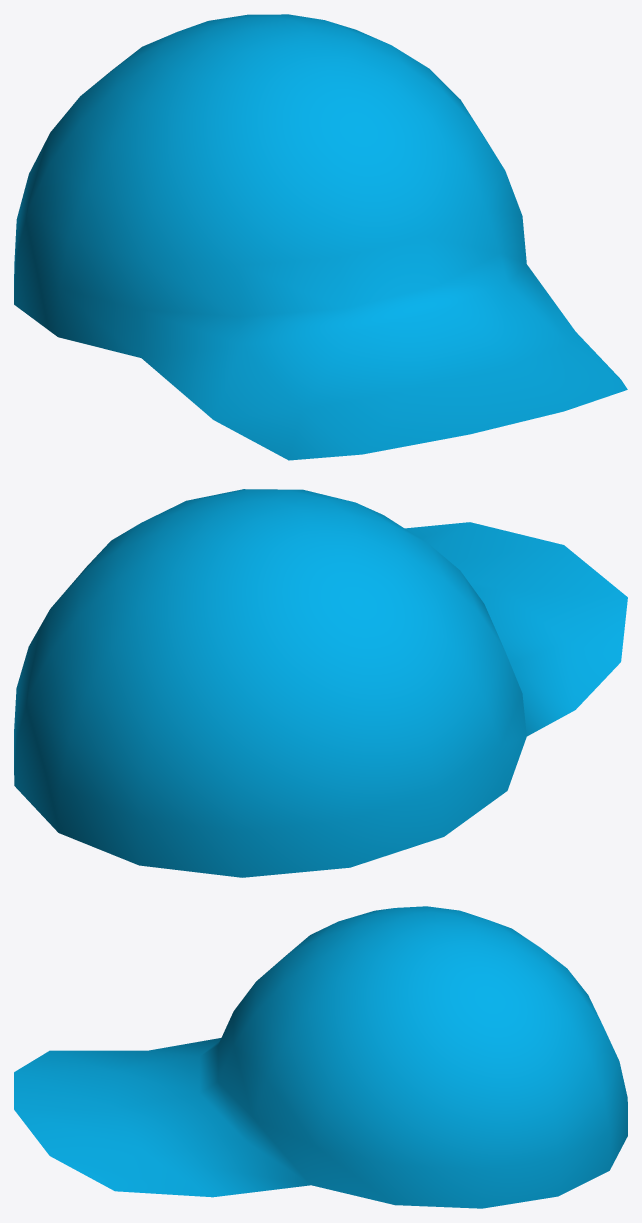
The model's file is SM_Hat.fbx.
3 views of the same model, one above another, from view 1: azimuth 30°, elevation 25°; view 2: azimuth 150°, elevation 25°; view 3: azimuth 270°, elevation 25° (orthographic). The views are drawn at different scales.
Visible parts, largest first — view 1: Sphere; view 2: Sphere; view 3: Sphere.
Part boxes in pixels (x1,y1,x2,y2): Sphere: [14, 14, 627, 460]; Sphere: [14, 489, 627, 877]; Sphere: [14, 906, 627, 1208].
Bounding box in the file's own units: 20.93 × 11.46 × 30.46.
